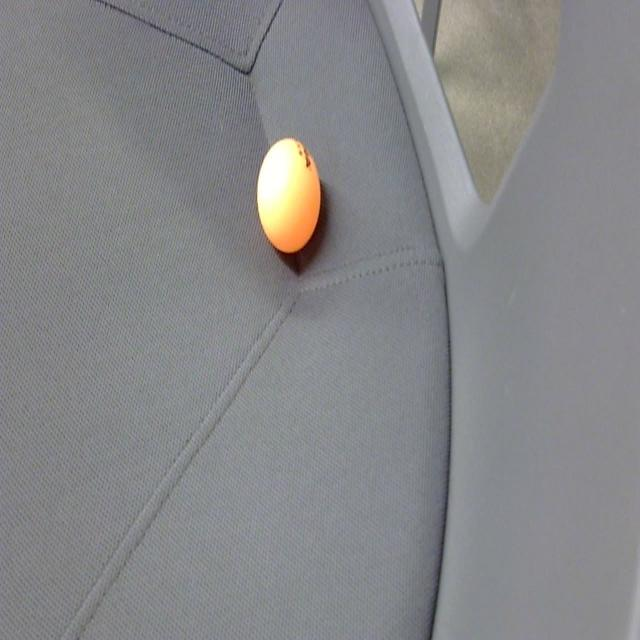ball: (255, 137, 321, 259)
